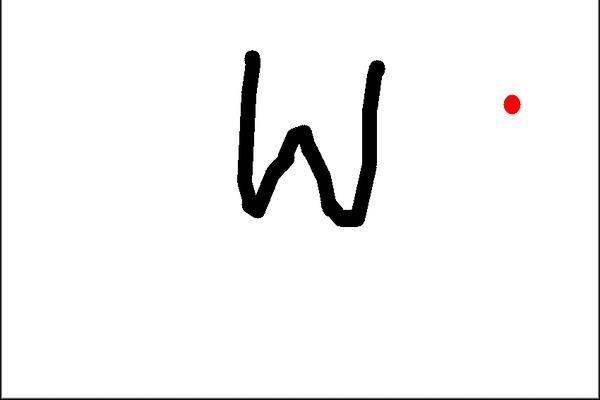w: (224, 33, 393, 237)
